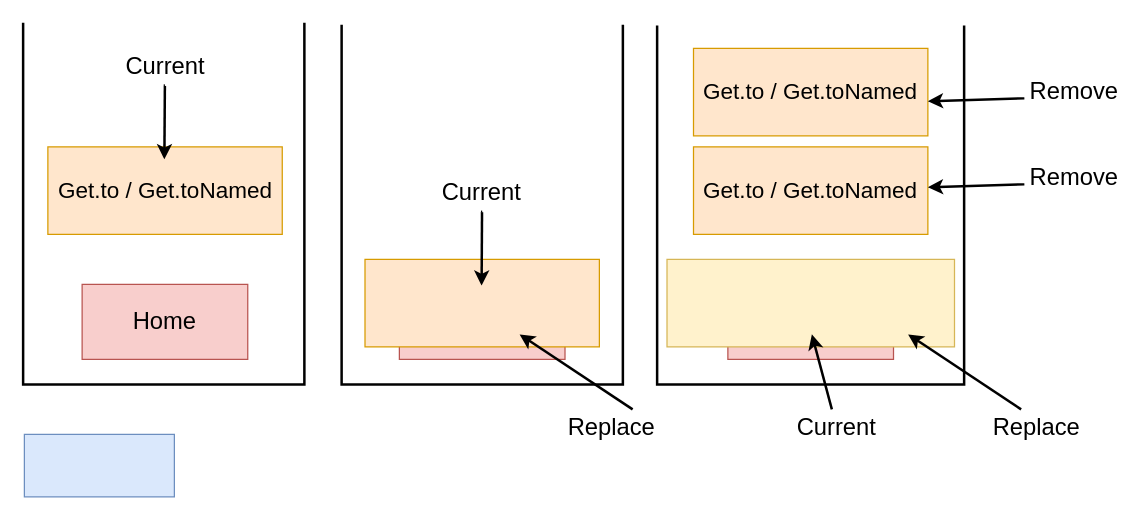
Image size: 1140x519. Some labels were removed from this diagram. Each missing label, with the centre of its shape:
Get.off / Get.offNamed: the point at 481,302
Get.offAll / Get.offAllNamed: the point at 810,302
路由堆栈: the point at 98,465
